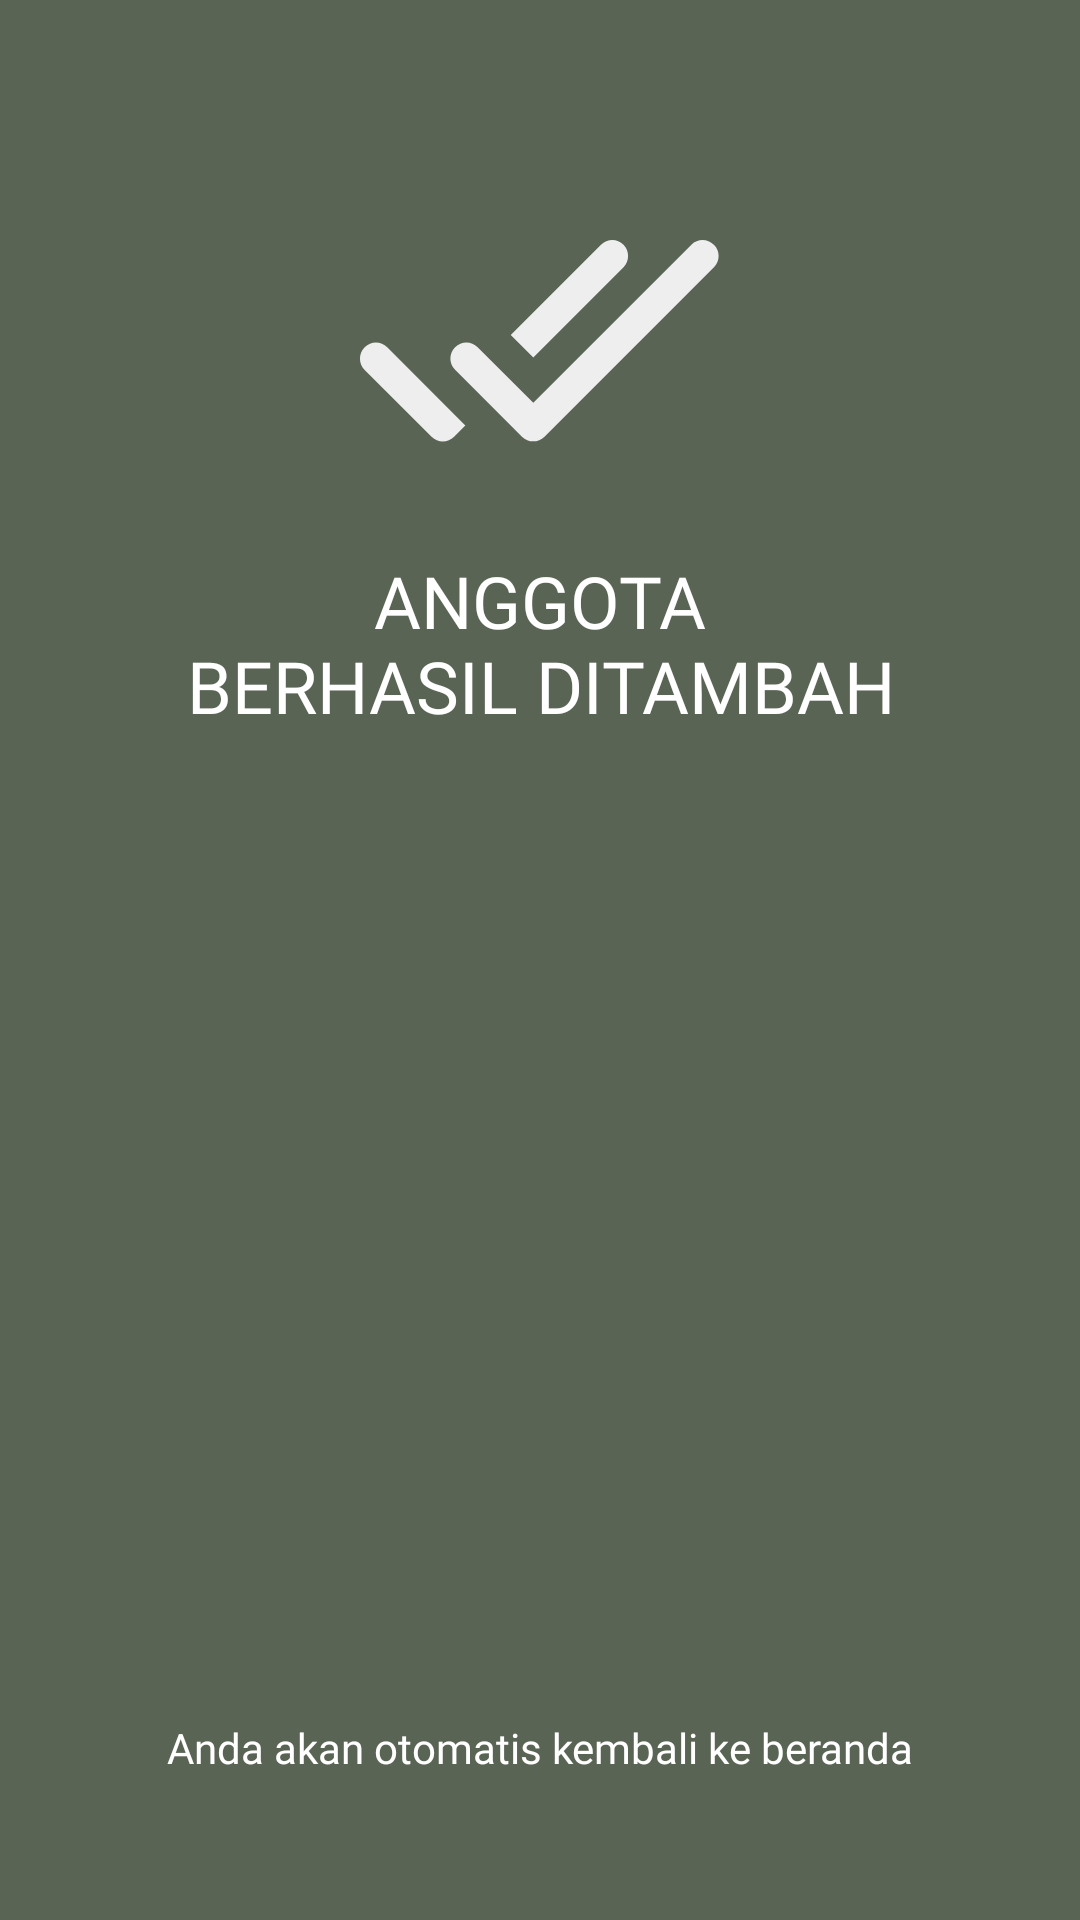

Point at icon controls on the screen. Image size 1080px x 1920px, points as (x,y).
done: (539,341)
